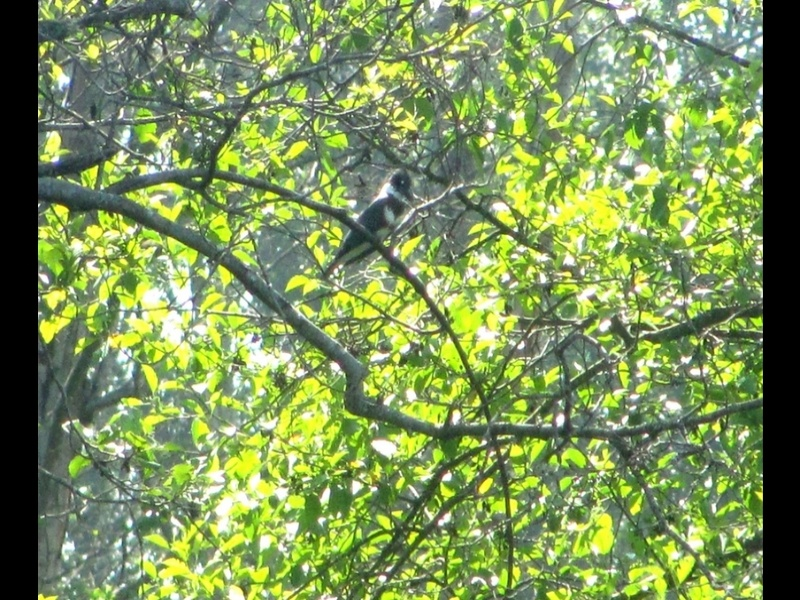kingfisher: (315, 163, 417, 298)
